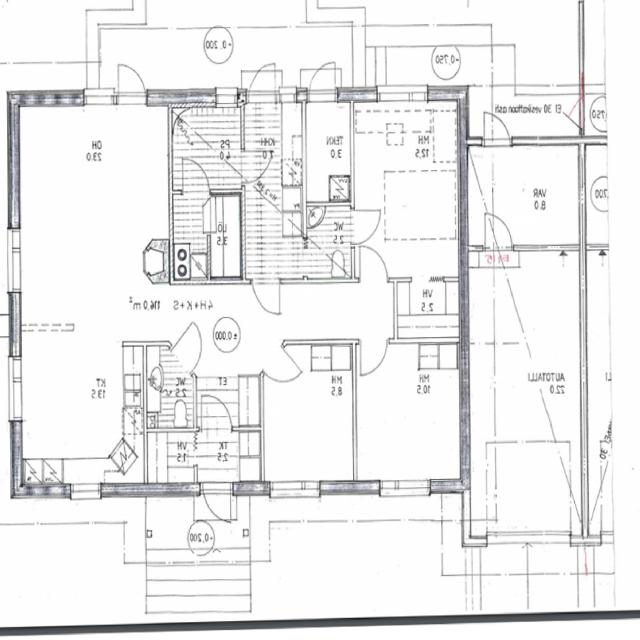door: (262, 344, 303, 396), (171, 324, 209, 374), (118, 52, 147, 106), (247, 53, 276, 106), (202, 484, 232, 535), (201, 386, 232, 431), (483, 99, 511, 146), (310, 56, 336, 106), (359, 241, 388, 283), (252, 278, 280, 320), (485, 209, 513, 250), (361, 338, 388, 379), (351, 210, 381, 244), (183, 155, 209, 194), (240, 150, 269, 182)
